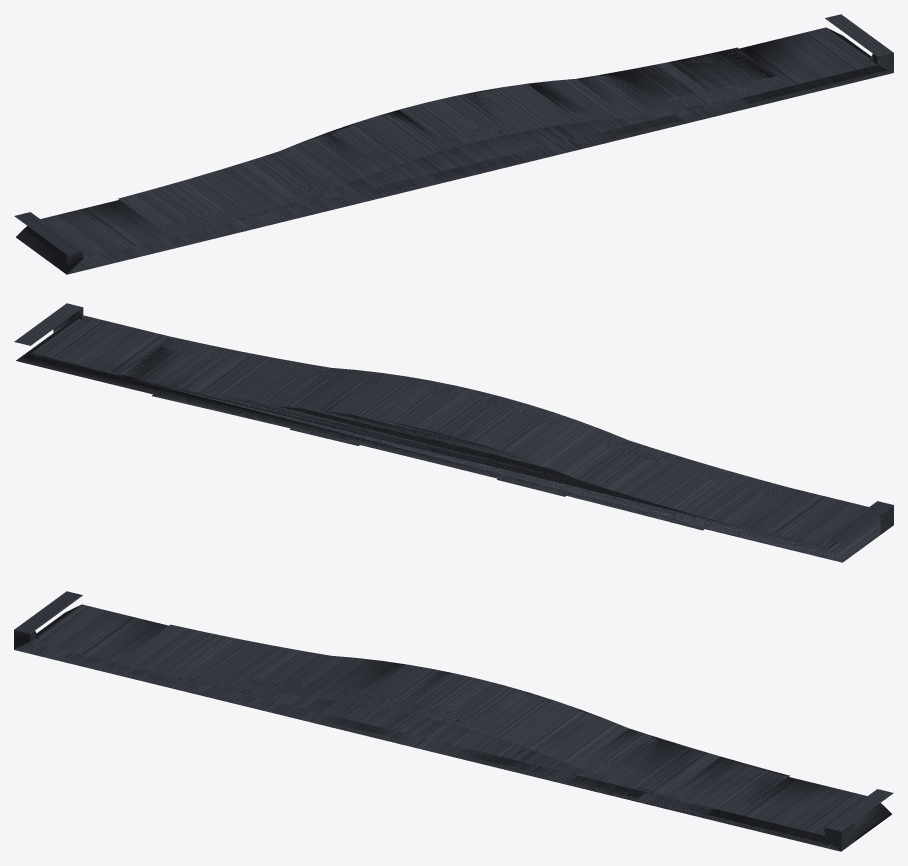
The model's file is original-2-new.obj.
3 renders of one model, top to bottom at view 1: azimuth 30°, elevation 25°; view 2: azimuth 150°, elevation 25°; view 3: azimuth 330°, elevation 25°, orthographic.
Parts seen in each view (by area): view 1: mesh1/mesh1-geometry#mesh1-geometry; view 2: mesh1/mesh1-geometry#mesh1-geometry; view 3: mesh1/mesh1-geometry#mesh1-geometry.
Boxes of the visible parts, <box> form: mesh1/mesh1-geometry#mesh1-geometry: <box>14,14,893,274</box>; mesh1/mesh1-geometry#mesh1-geometry: <box>14,303,893,562</box>; mesh1/mesh1-geometry#mesh1-geometry: <box>14,591,893,851</box>.
Size of the model in its own units: 0.9615 by 0.0366 by 0.1074.
